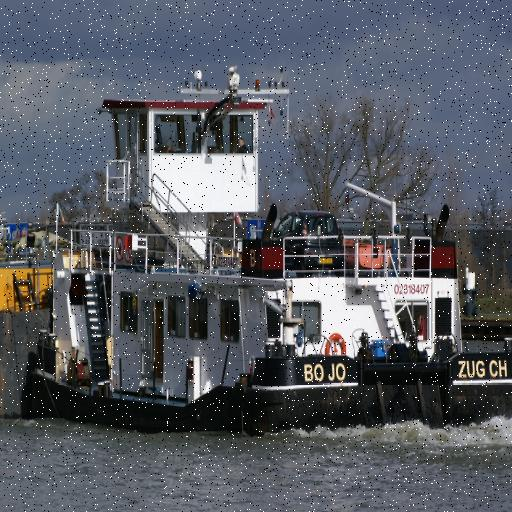tugboat: (26, 62, 512, 448)
